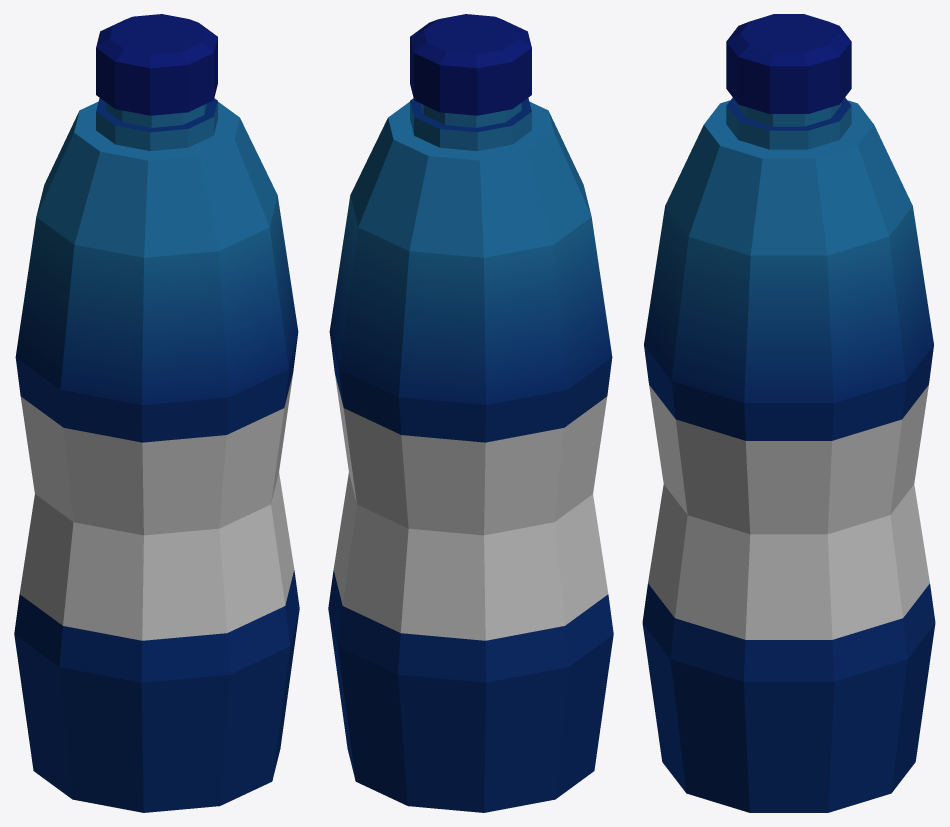
The model's file is BottleV1.fbx.
The picture shows the model from 3 angles, left to right: view 1: azimuth 30°, elevation 25°; view 2: azimuth 150°, elevation 25°; view 3: azimuth 270°, elevation 25°; orthographic projection.
Visible parts, largest first — view 1: BottleV1; view 2: BottleV1; view 3: BottleV1.
Boxes of the visible parts, x1,y1,x2,y2 form: BottleV1: [14, 14, 299, 812]; BottleV1: [328, 14, 613, 812]; BottleV1: [642, 14, 935, 812].
Size of the model in its own units: 10.1 by 29.13 by 10.62.
